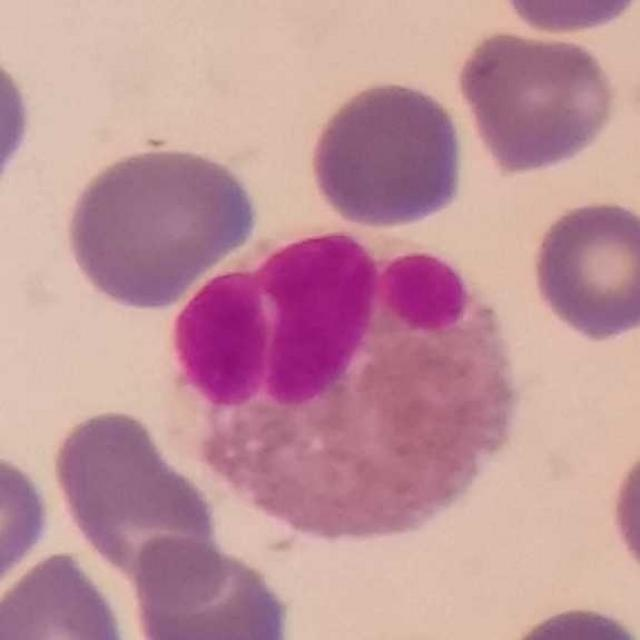Eosinophil: (172, 230, 523, 548)
RBC: (59, 140, 263, 312), (45, 403, 224, 585), (304, 74, 468, 232), (453, 25, 621, 178), (127, 534, 296, 640), (525, 195, 640, 344), (0, 547, 134, 640), (0, 446, 55, 602), (0, 37, 37, 209), (486, 600, 640, 640), (604, 430, 640, 596), (492, 0, 640, 38)
